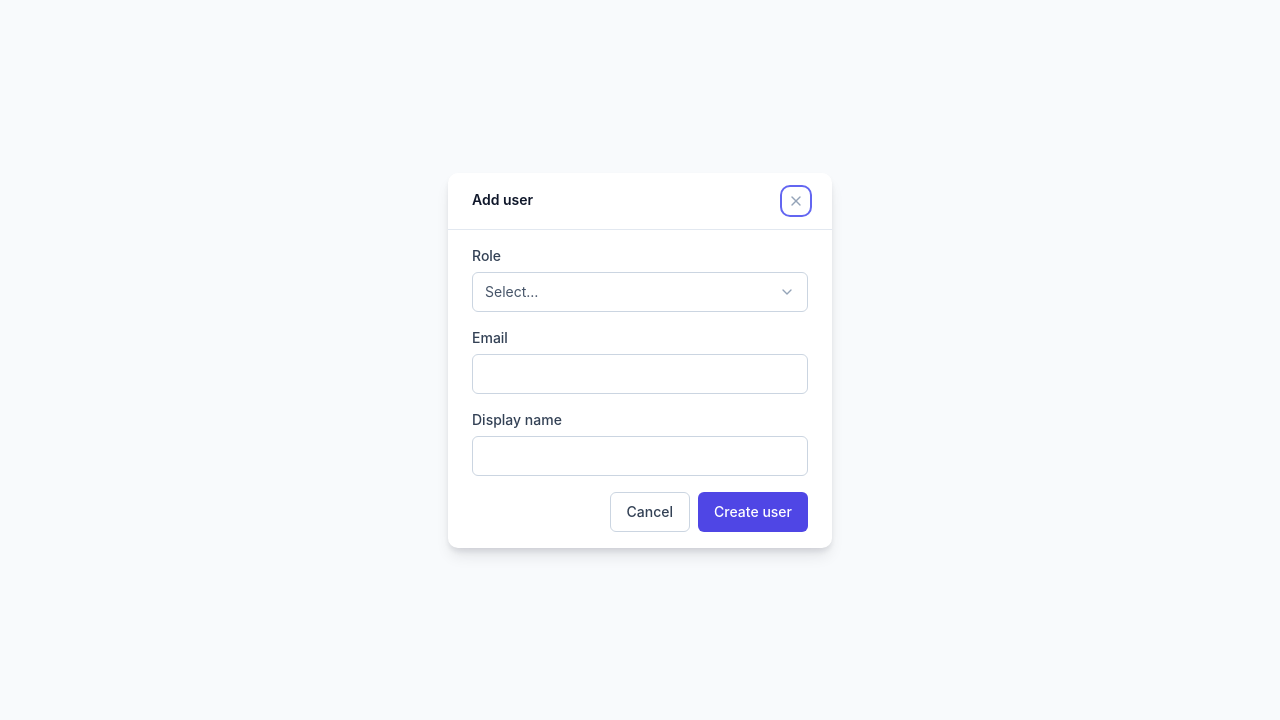
it: AddUserModal — the scope field mirrors the actor's own axis › shows a Merchant ID field for a tenant_admin actor only once "merchant" is the selected role
Expected: the field labelled "merchant id" is not shown
Click the dropdown named "role" at point(512, 291), box [472, 272, 808, 312]
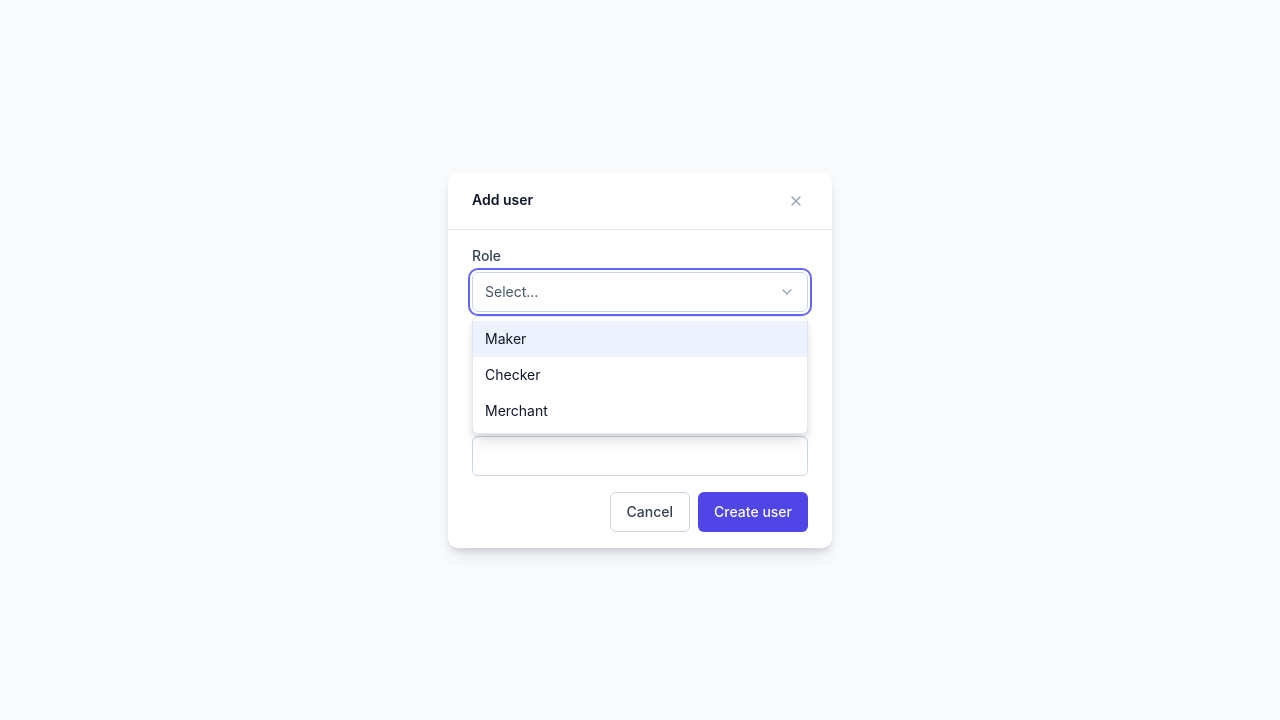
Click the option "Merchant" at point(516, 410), box [485, 402, 548, 418]
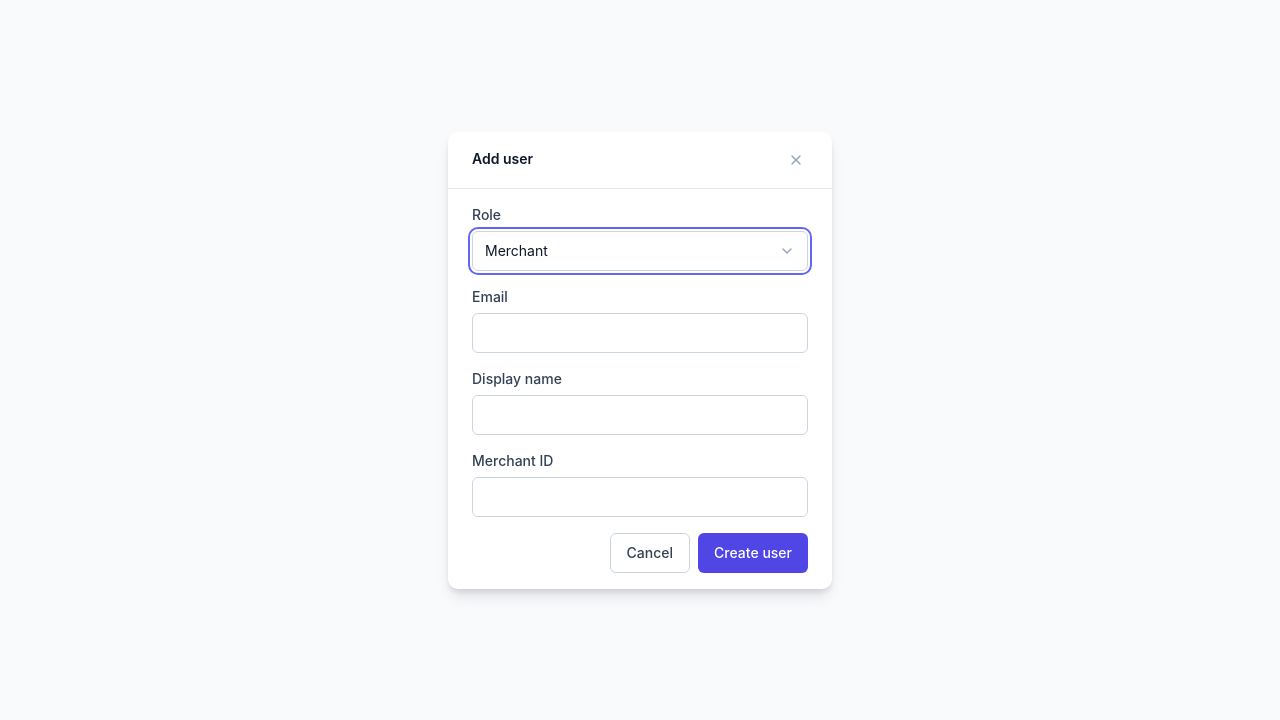
Result: the number field labelled "Merchant ID" is shown at [472, 476, 808, 516]
